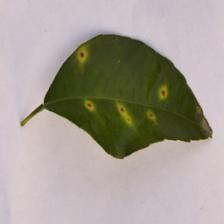canker: (55, 36, 174, 144)
